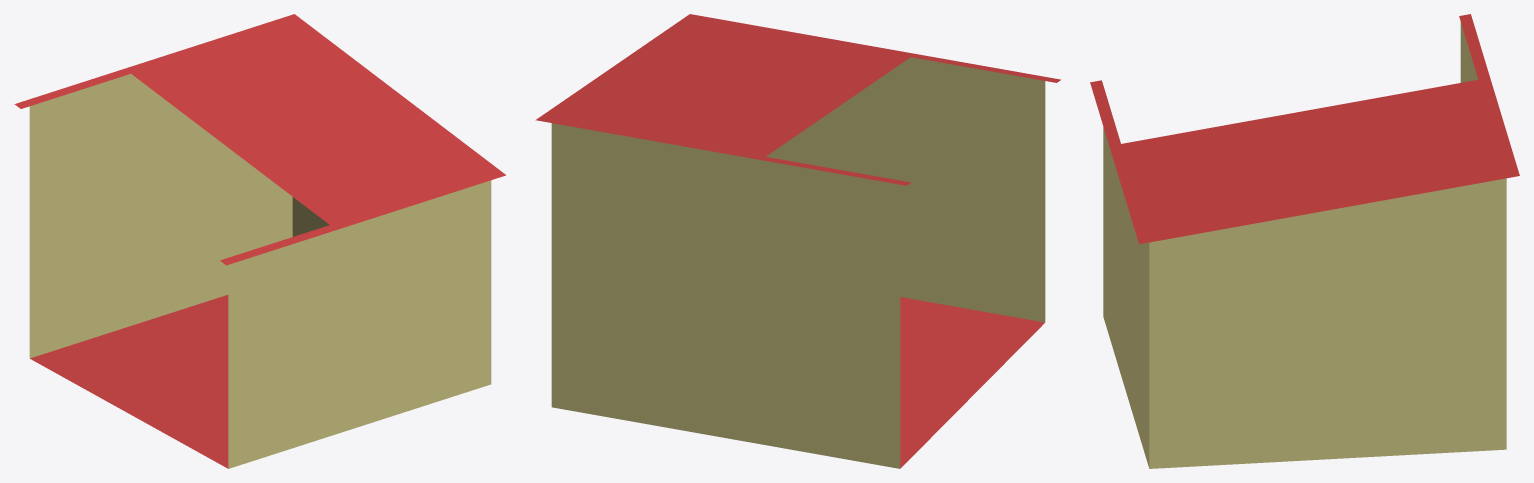
The picture shows the model from 3 angles, left to right: view 1: azimuth 30°, elevation 25°; view 2: azimuth 150°, elevation 25°; view 3: azimuth 270°, elevation 25°; orthographic projection. The views are drawn at different scales.
Size of the model in its own units: 9.06 by 9.02 by 6.43.
